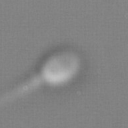normal: (1, 72, 41, 109)
